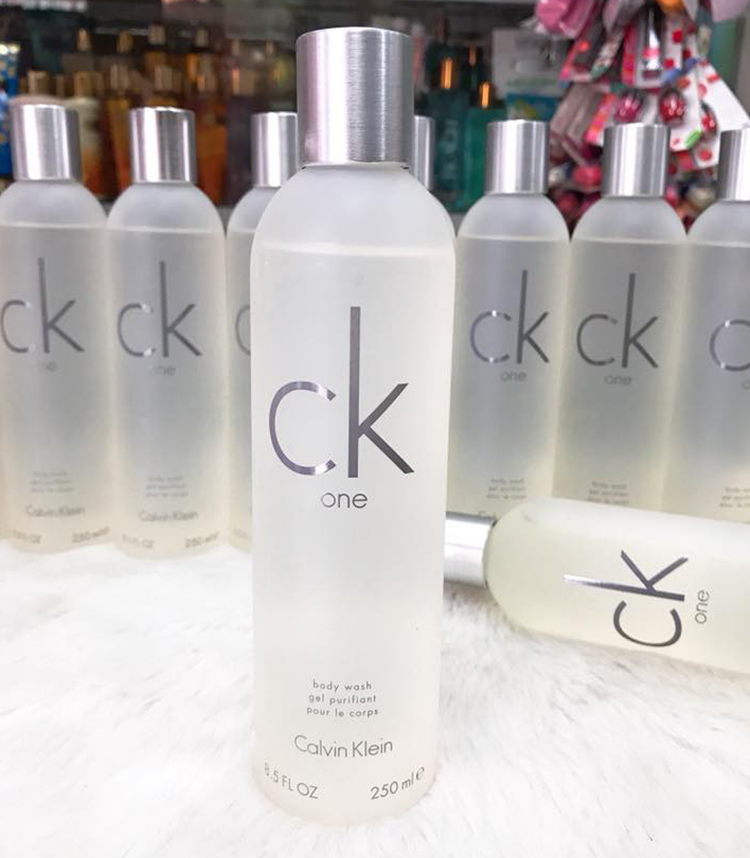Calvin Klein: (262, 295, 421, 479), (559, 539, 692, 651), (114, 259, 212, 364), (1, 247, 92, 357), (574, 265, 665, 373), (470, 261, 559, 369), (287, 727, 400, 761), (134, 501, 204, 527), (17, 499, 93, 521)
